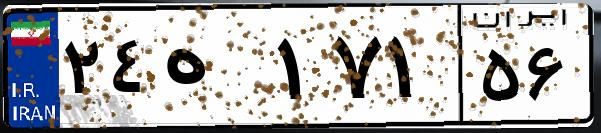1: (270, 28, 330, 110), (385, 28, 445, 110)
2: (57, 26, 110, 100)
4: (110, 28, 158, 98)
5: (475, 38, 525, 113)
6: (525, 38, 570, 115)
7: (330, 28, 385, 110)
ه: (158, 20, 270, 120)
